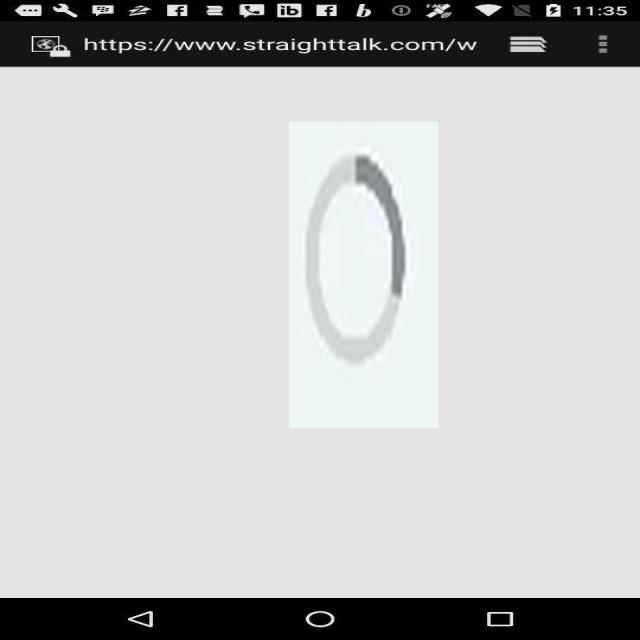misdirection: (289, 121, 439, 428)
